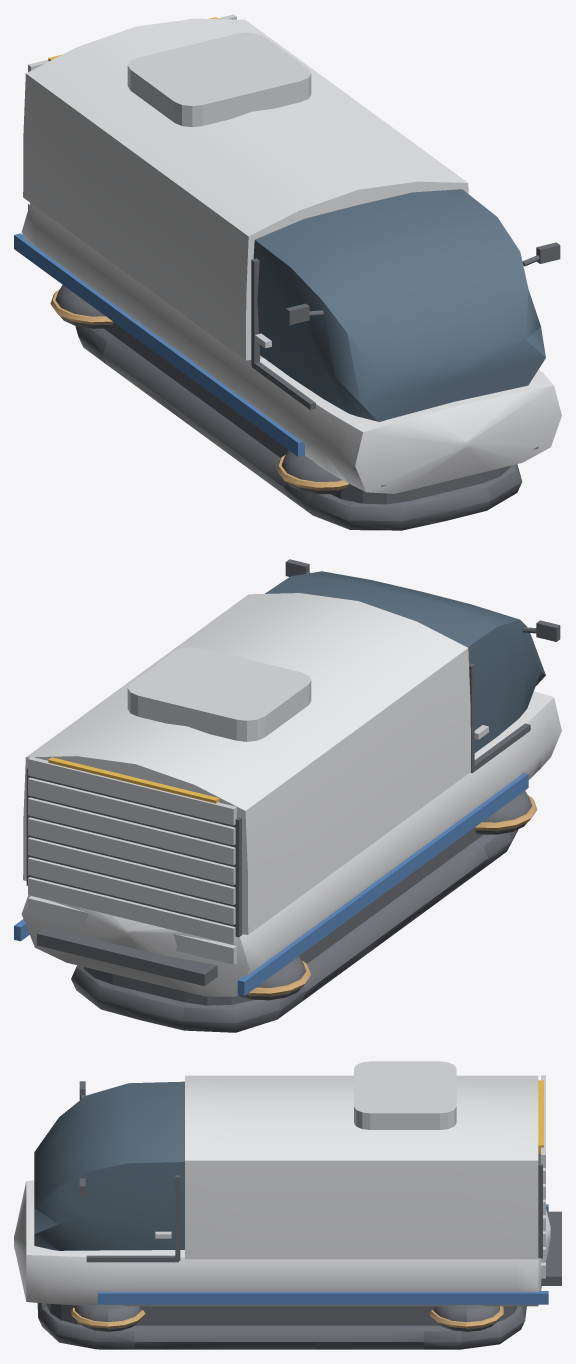
The model's file is hover-transit-and-antigrav-fleet-delivery-van-dd70f141__17082.glb.
3 views of the same model, one above another, from view 1: azimuth 30°, elevation 25°; view 2: azimuth 150°, elevation 25°; view 3: azimuth 270°, elevation 25° (orthographic). The views are drawn at different scales.
Visible parts, largest first — view 1: delivery-van; view 2: delivery-van; view 3: delivery-van.
Boxes of the visible parts, x1,y1,x2,y2 form: delivery-van: [14, 14, 561, 530]; delivery-van: [14, 559, 561, 1032]; delivery-van: [14, 1061, 561, 1349].
Size of the model in its own units: 2.42 by 2.46 by 5.35.
